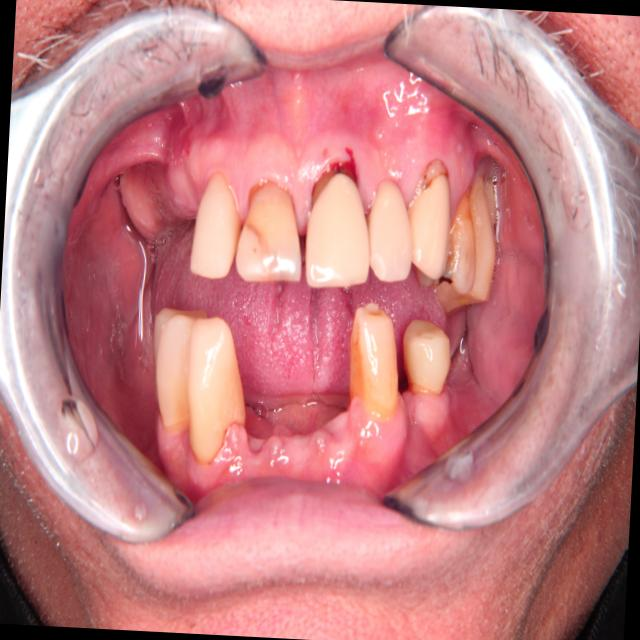tooth: (177, 311, 255, 473), (295, 166, 381, 299), (231, 178, 318, 298), (337, 293, 410, 435), (398, 155, 461, 298), (357, 168, 422, 296), (183, 166, 248, 287), (456, 152, 504, 314), (396, 306, 456, 413), (152, 310, 198, 443), (439, 183, 486, 312), (146, 303, 173, 411)
